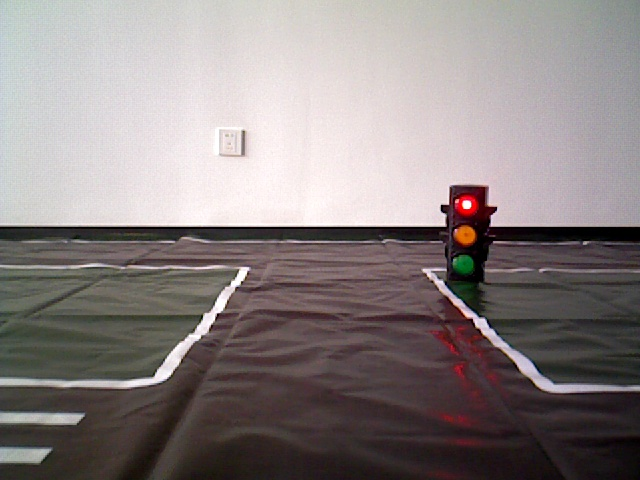red: (450, 188, 483, 277)
